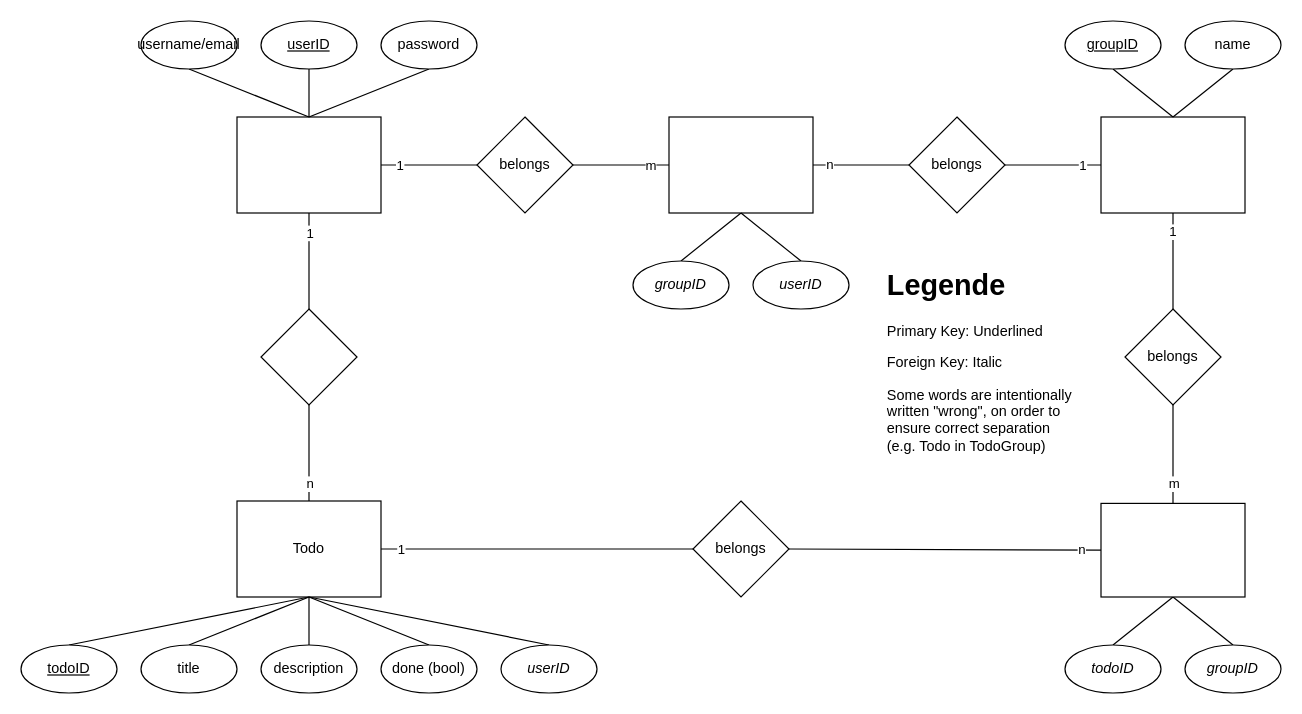
Image size: 1302x714. Some labels were removed from this diagram. The box of each missing label's shape, as (x1, y1, x2, y2) in pixels:
creates: (260, 308, 357, 405)
group: (1100, 116, 1245, 213)
TodoGroup: (1100, 502, 1245, 597)
user: (236, 116, 381, 213)
UserGruppe: (668, 116, 813, 213)
